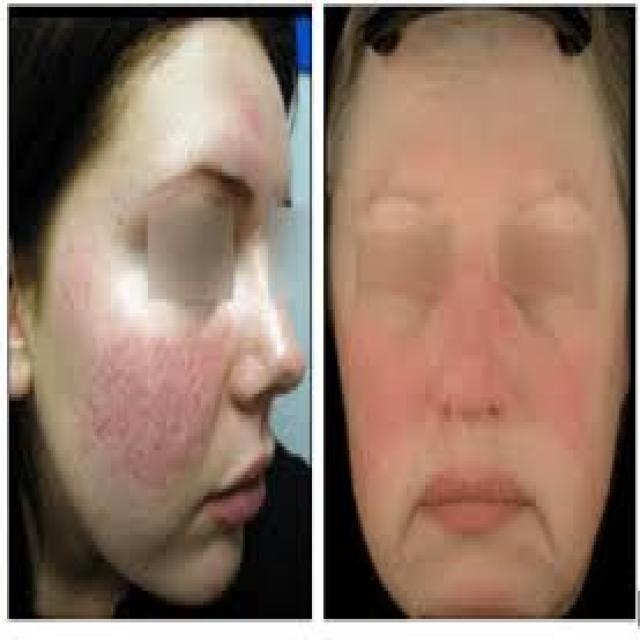Rosacea: (89, 330, 217, 482), (342, 318, 431, 478), (529, 348, 597, 460)
